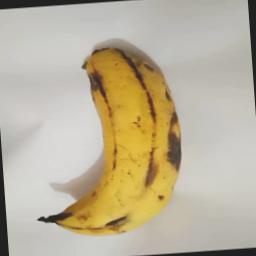Banana Unripe: (40, 41, 190, 241)
